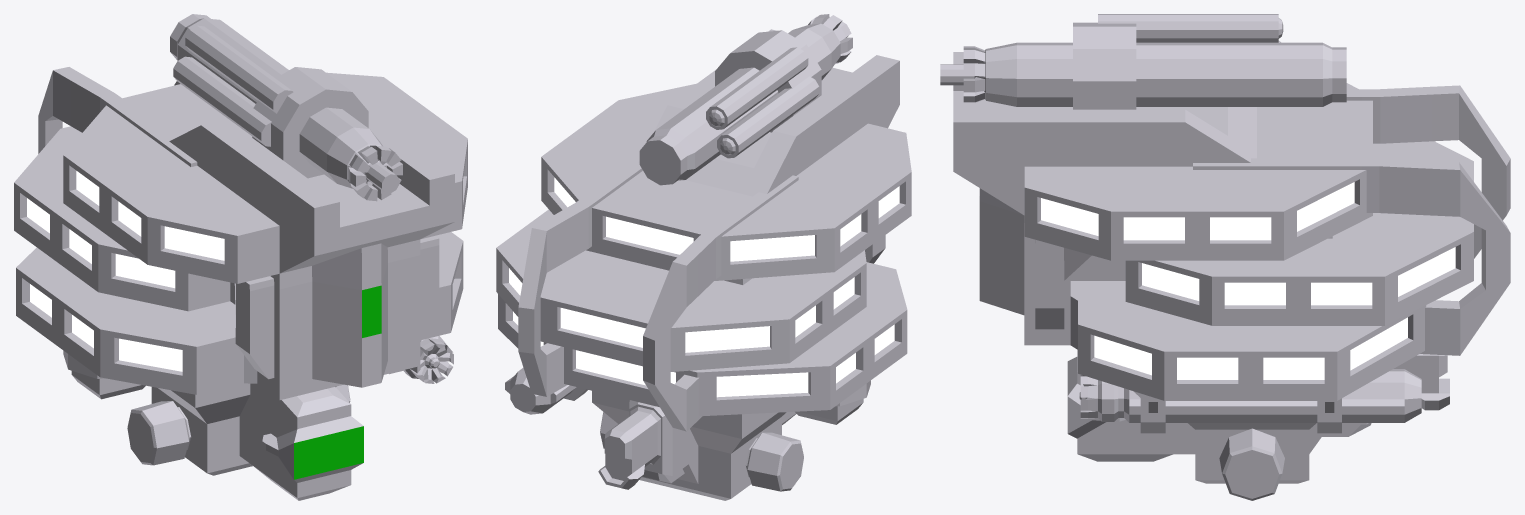
File: Clip bridge.fbx
3 views of the same model, side by side, from view 1: azimuth 30°, elevation 25°; view 2: azimuth 150°, elevation 25°; view 3: azimuth 270°, elevation 25° (orthographic). The views are drawn at different scales.
Parts seen in each view (by area): view 1: Clip bridge; view 2: Clip bridge; view 3: Clip bridge.
Part boxes in pixels (bbox=[...]): Clip bridge: bbox=[14, 14, 467, 500]; Clip bridge: bbox=[496, 14, 911, 500]; Clip bridge: bbox=[940, 14, 1510, 500].
Bounding box in the file's own units: 1.73 × 1.92 × 2.29.
